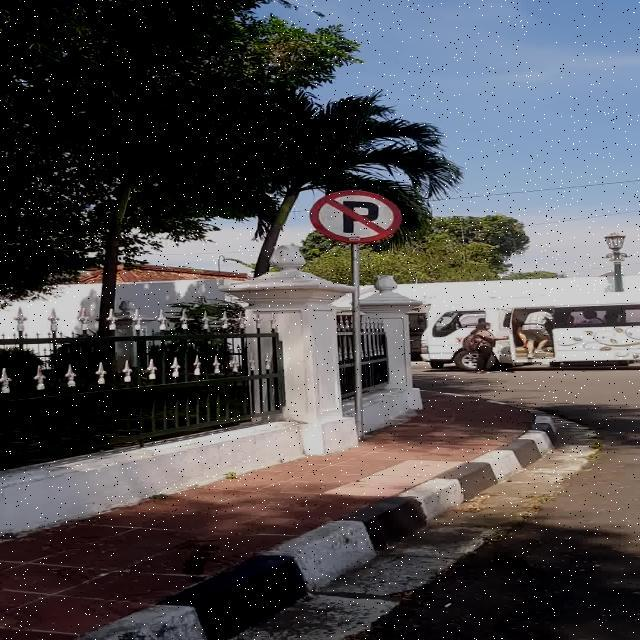Dilarang Parkir: (308, 190, 402, 243)
